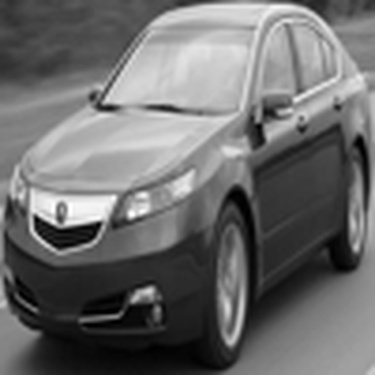car: (4, 3, 372, 373)
